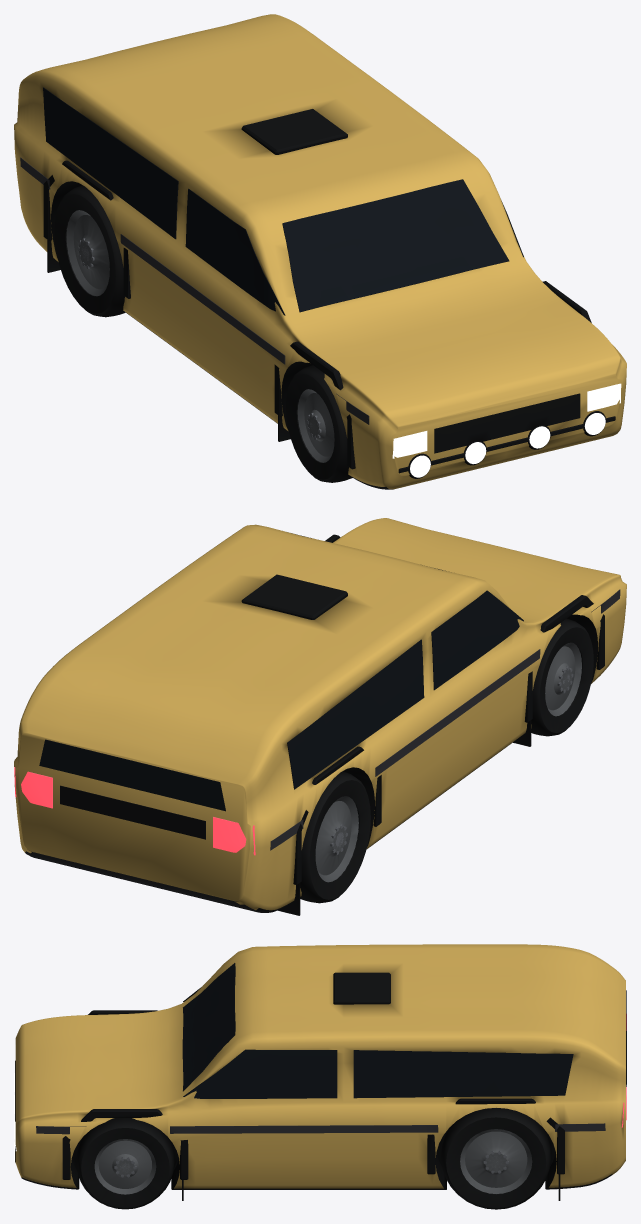
3 renders of one model, top to bottom at view 1: azimuth 30°, elevation 25°; view 2: azimuth 150°, elevation 25°; view 3: azimuth 270°, elevation 25°, orthographic. The views are drawn at different scales.
Visible parts, largest first — view 1: LOD0; view 2: LOD0; view 3: LOD0.
Boxes of the visible parts, box(x1,y1,x2,y2) form: LOD0: box(14, 14, 626, 489); LOD0: box(14, 518, 626, 915); LOD0: box(14, 944, 626, 1209).
Size of what is drawn, in the model's own units: 1.76 by 1.41 by 4.46.
